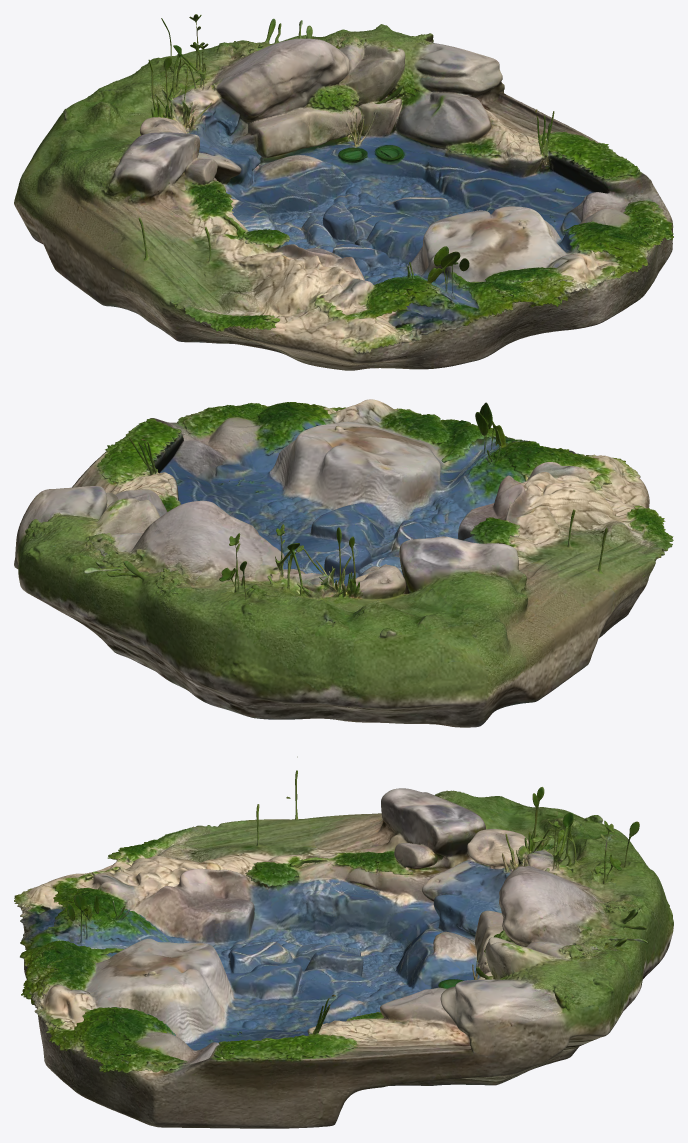
File: rocky-pond-oasis.glb
3 views of the same model, one above another, from view 1: azimuth 30°, elevation 25°; view 2: azimuth 150°, elevation 25°; view 3: azimuth 270°, elevation 25° (orthographic). The views are drawn at different scales.
Bounding box in the file's own units: 1.79 × 0.5349 × 1.9.
1 material, 1 textured.
